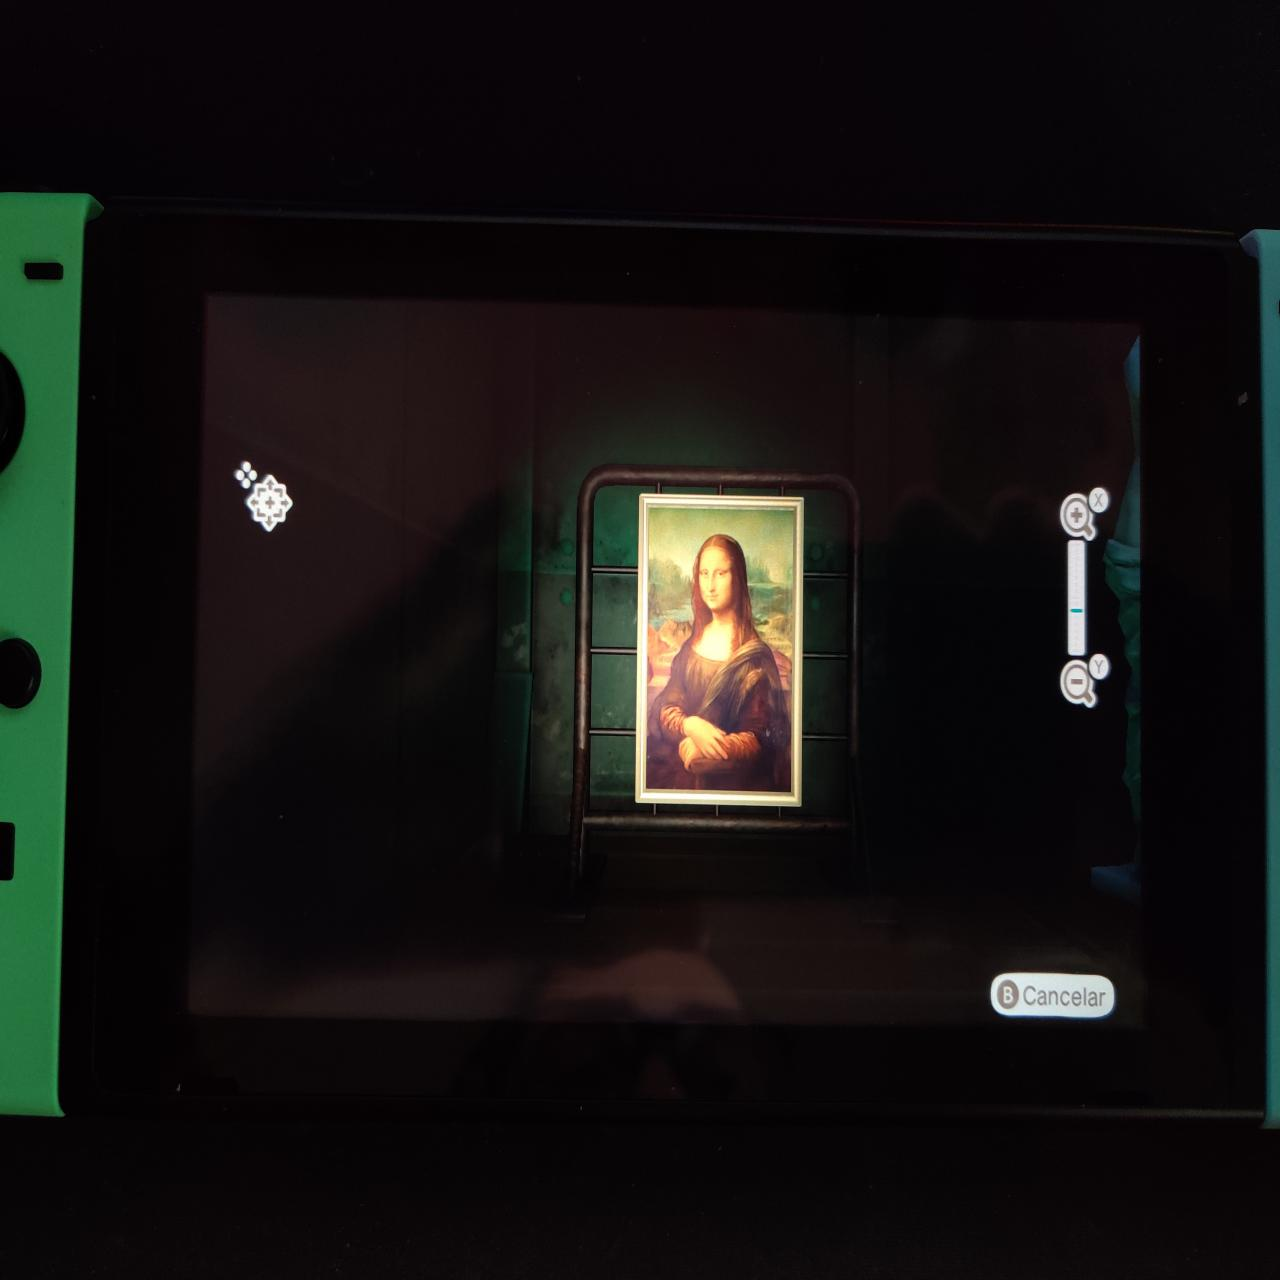MonaLisa: (651, 508, 794, 796)
